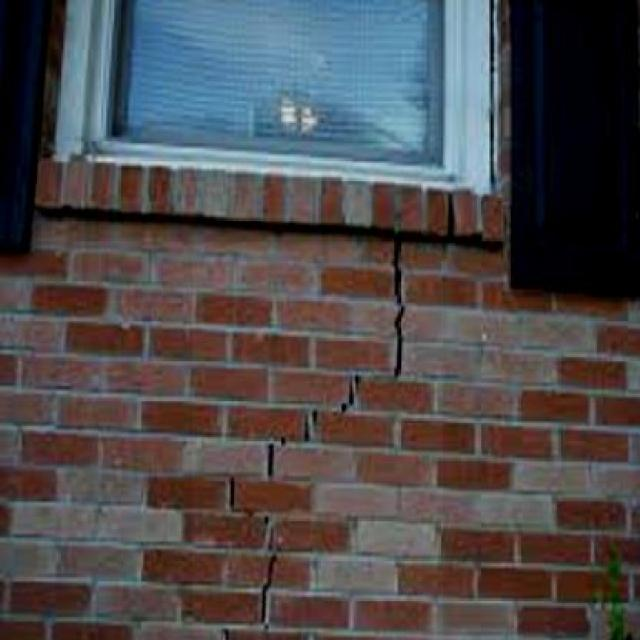Crack: (228, 372, 368, 634), (379, 236, 423, 388)
